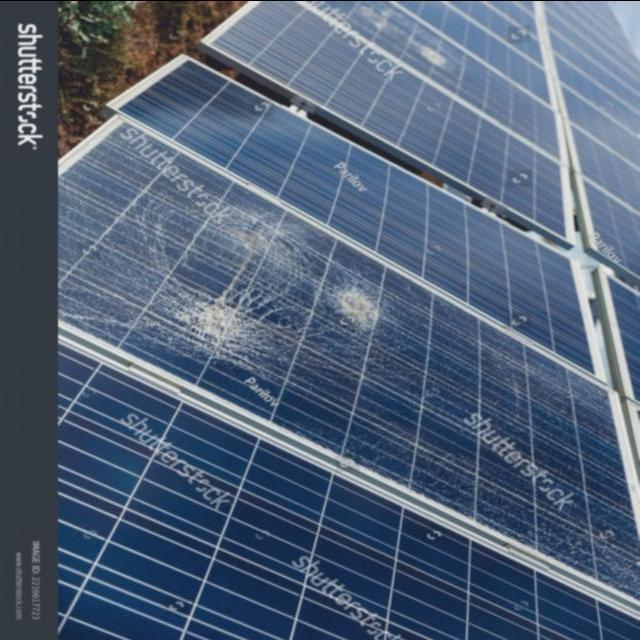cracked: (58, 115, 636, 597)
